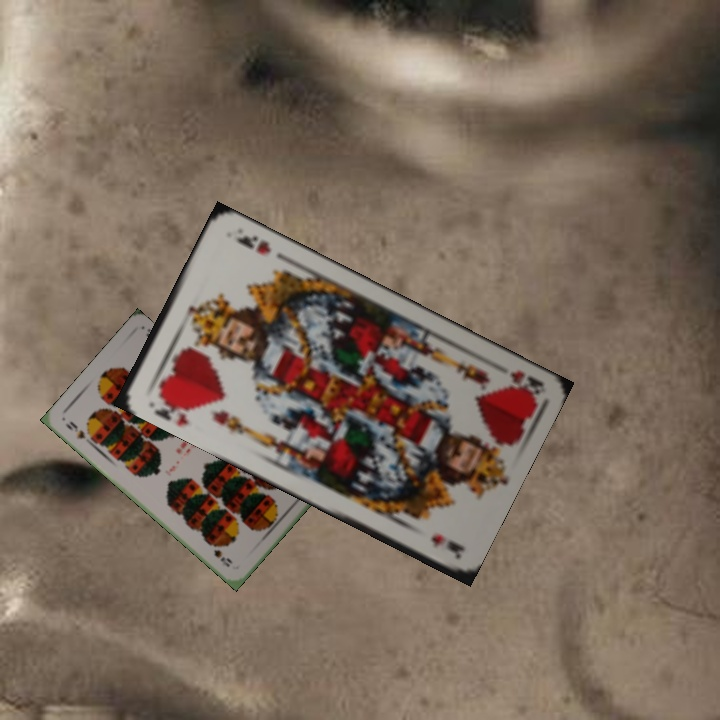HK: (150, 388, 197, 429), (505, 366, 544, 400)
S9: (61, 417, 88, 442)
